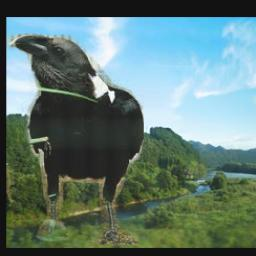Crow: (6, 34, 144, 246)
